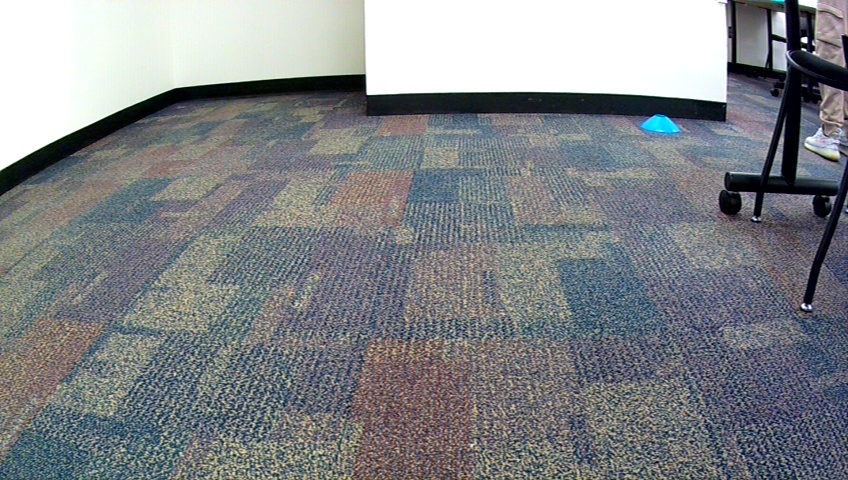cone: (641, 113, 682, 134)
